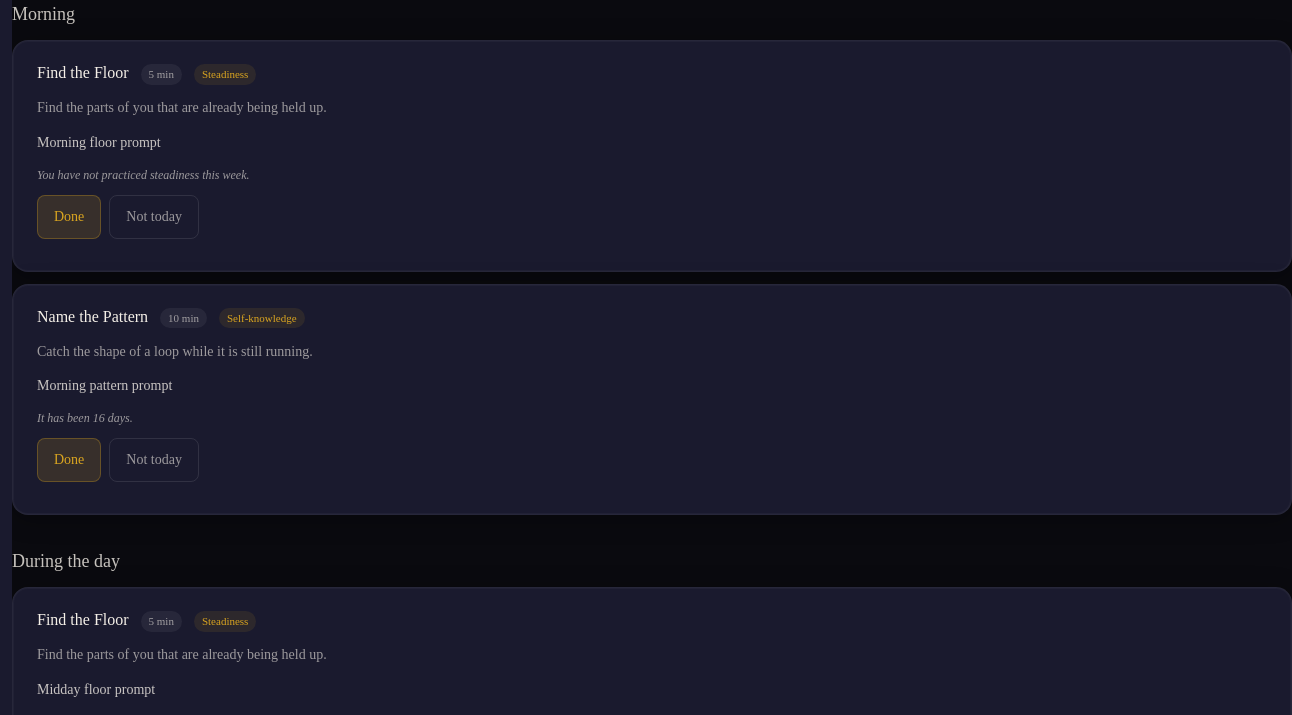
it: DailyProtocol completion › rolls the card back and explains when the write fails
Click the button "Done" below "Morning floor prompt".
click(69, 216)  # box [37,194,101,238]
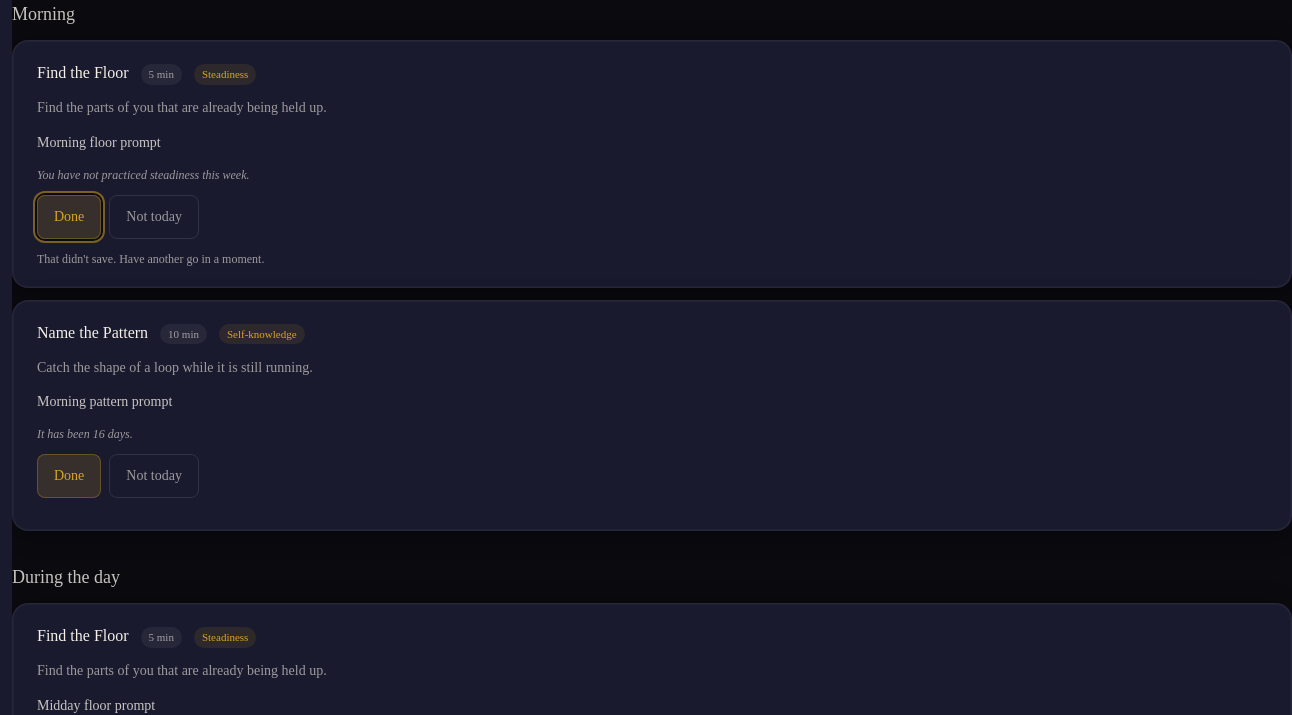
Expected: the text "That didn't save. Have another go in a moment." is shown, [37,252,264,266]
